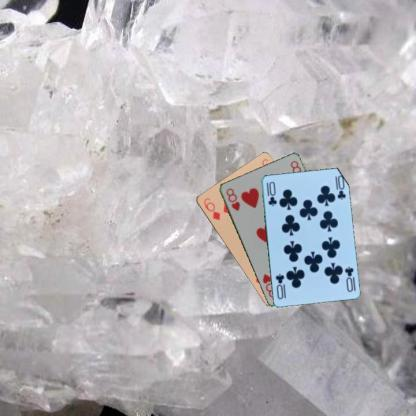10c: (263, 178, 278, 208), (342, 264, 355, 293)
6d: (201, 195, 221, 222)
8h: (223, 186, 241, 212)
